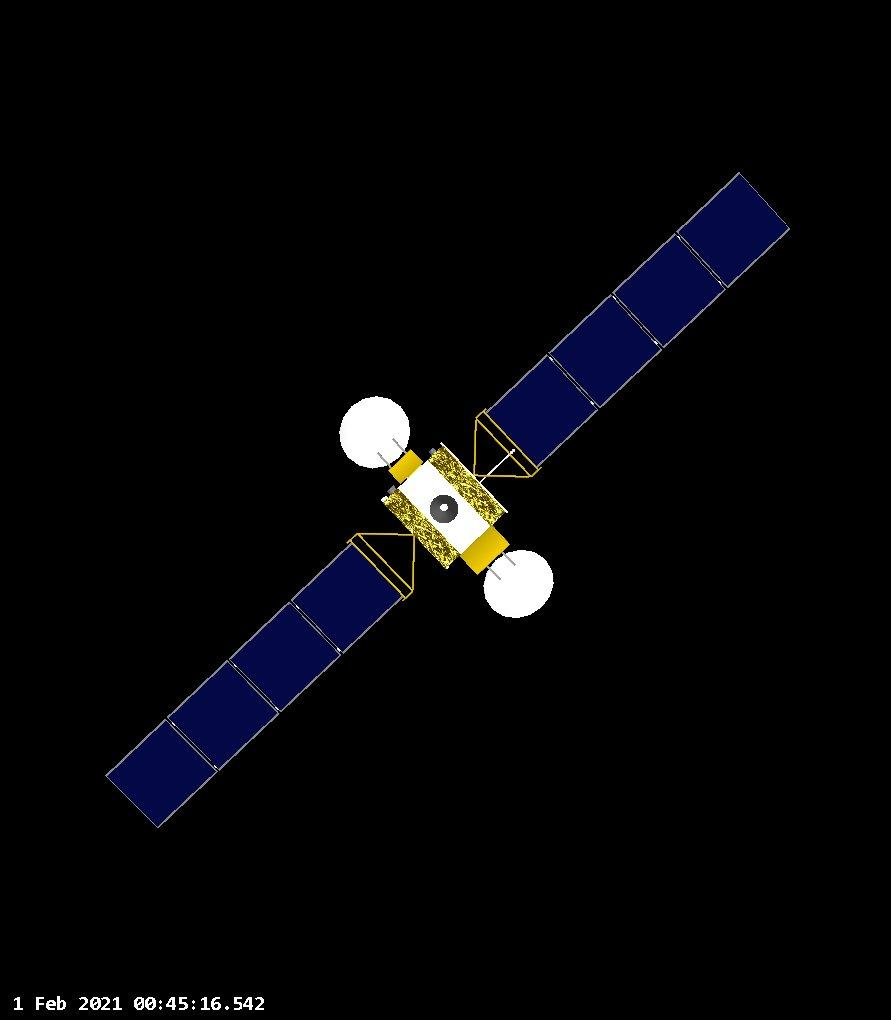antenna: (333, 392, 413, 475), (480, 542, 559, 622)
body: (366, 437, 516, 573)
solar: (468, 165, 798, 489), (95, 528, 423, 837)
thruster: (423, 489, 464, 528)
